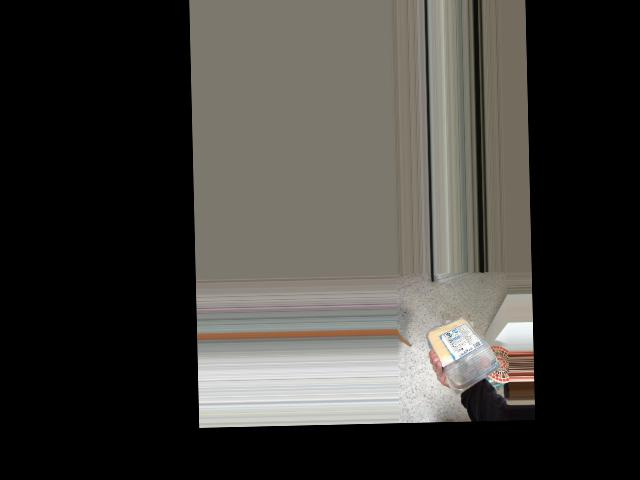cheese: (430, 314, 505, 376)
